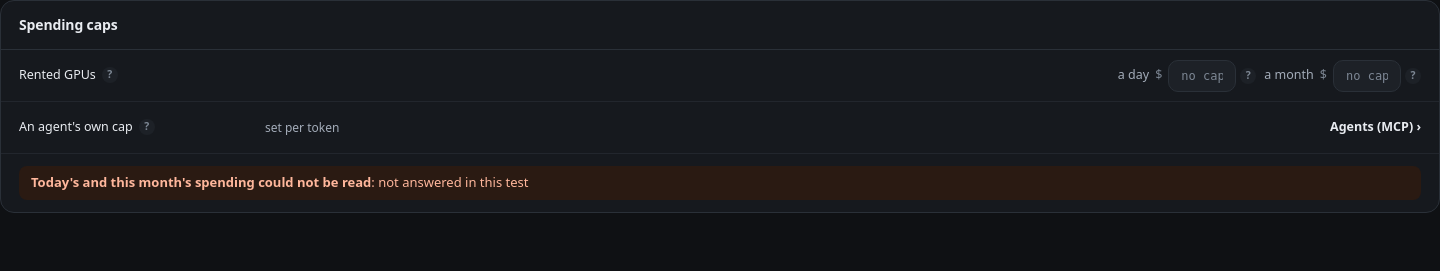
Settings › Costs' caps › sends an edit queued behind a refused one without the refused value, and keeps saying that cap was not saved
Type "3" into the field named "Cap a day". click: [1202, 76]
box: [1168,60,1236,92]
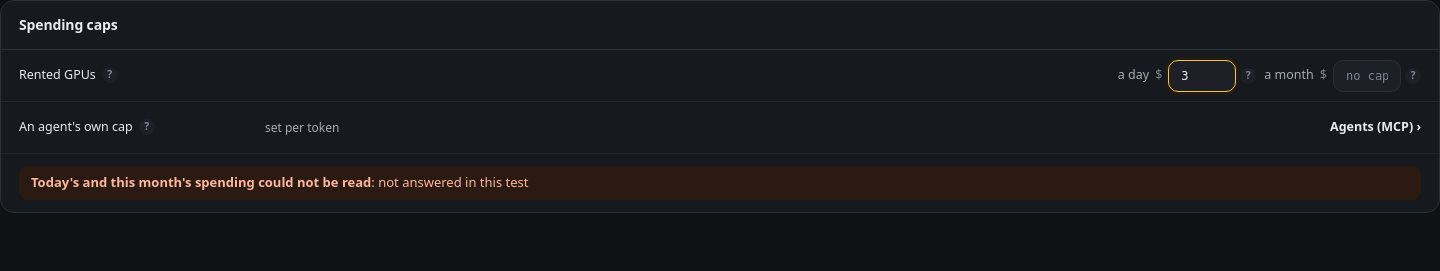
Press Tab
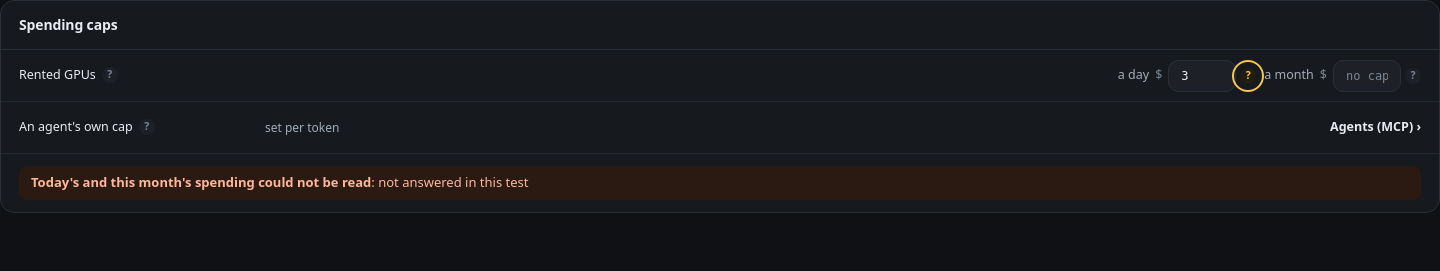
Type "10" into the field named "Cap a month". click: [1367, 76]
box: [1333,60,1401,92]
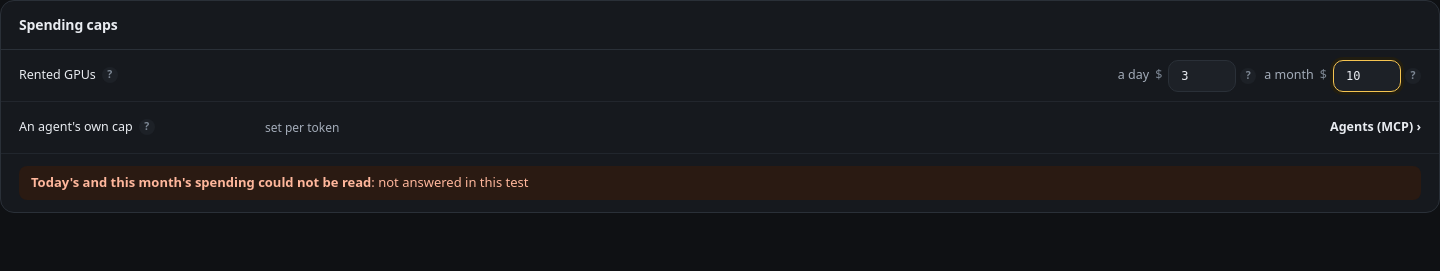
Press Tab
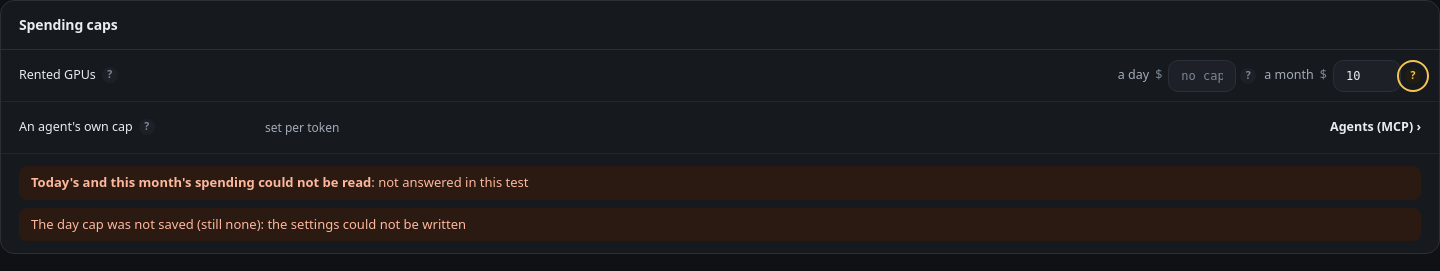
Expected: the text "The day cap was not saved (still none): the settings could not be written" is shown, [19,208,1421,241]
Expected: the field named "Cap a day" is empty, [1168,60,1236,92]
